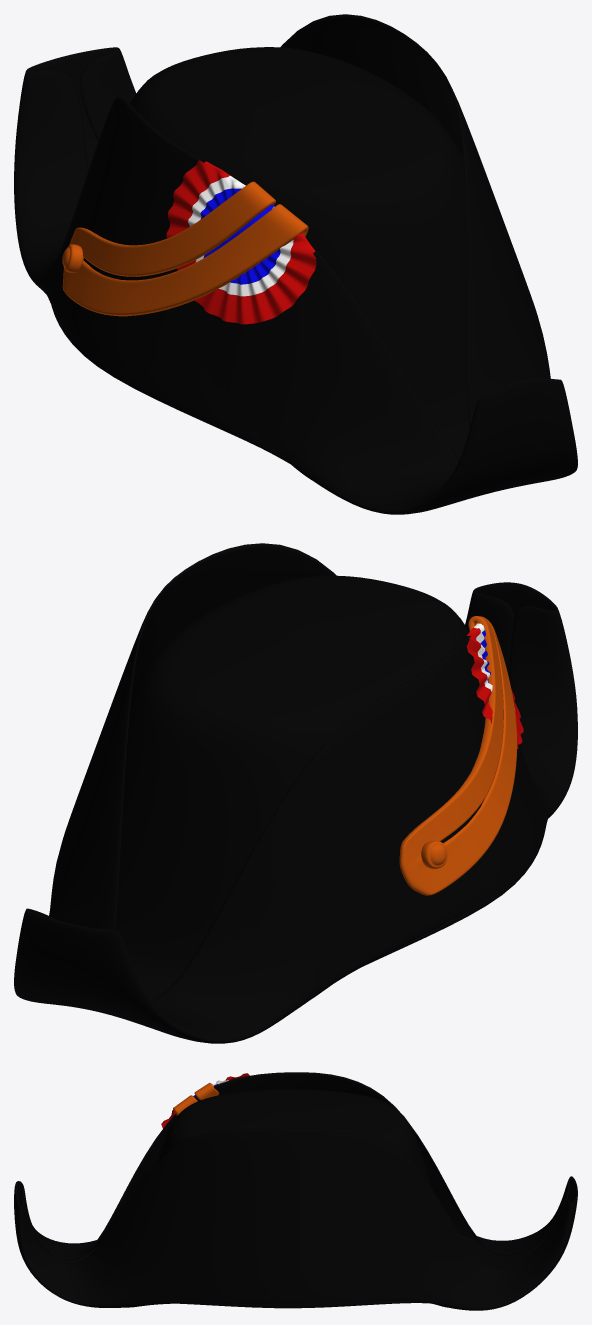
Rendered from bicorne.obj.
The picture shows the model from 3 angles, top to bottom: view 1: azimuth 30°, elevation 25°; view 2: azimuth 150°, elevation 25°; view 3: azimuth 270°, elevation 25°; orthographic projection. The views are drawn at different scales.
Parts seen in each view (by area): view 1: Bicorne_Cube.003, Ganse_Plane.001, Coquarde_Cube.001; view 2: Bicorne_Cube.003, Ganse_Plane.001, Coquarde_Cube.001, Bouton_tangente.002_Cube.002; view 3: Bicorne_Cube.003, Ganse_Plane.001.
Part boxes in pixels (bbox=[...]): Bicorne_Cube.003: bbox=[14, 14, 577, 514]; Ganse_Plane.001: bbox=[62, 181, 308, 316]; Coquarde_Cube.001: bbox=[166, 160, 316, 324]; Bicorne_Cube.003: bbox=[14, 543, 577, 1043]; Ganse_Plane.001: bbox=[399, 616, 517, 895]; Coquarde_Cube.001: bbox=[466, 623, 523, 748]; Bouton_tangente.002_Cube.002: bbox=[421, 840, 447, 868]; Bicorne_Cube.003: bbox=[14, 1072, 577, 1310]; Ganse_Plane.001: bbox=[173, 1083, 219, 1115].
Bounding box in the file's own units: 0.483 × 0.3402 × 0.9452.
